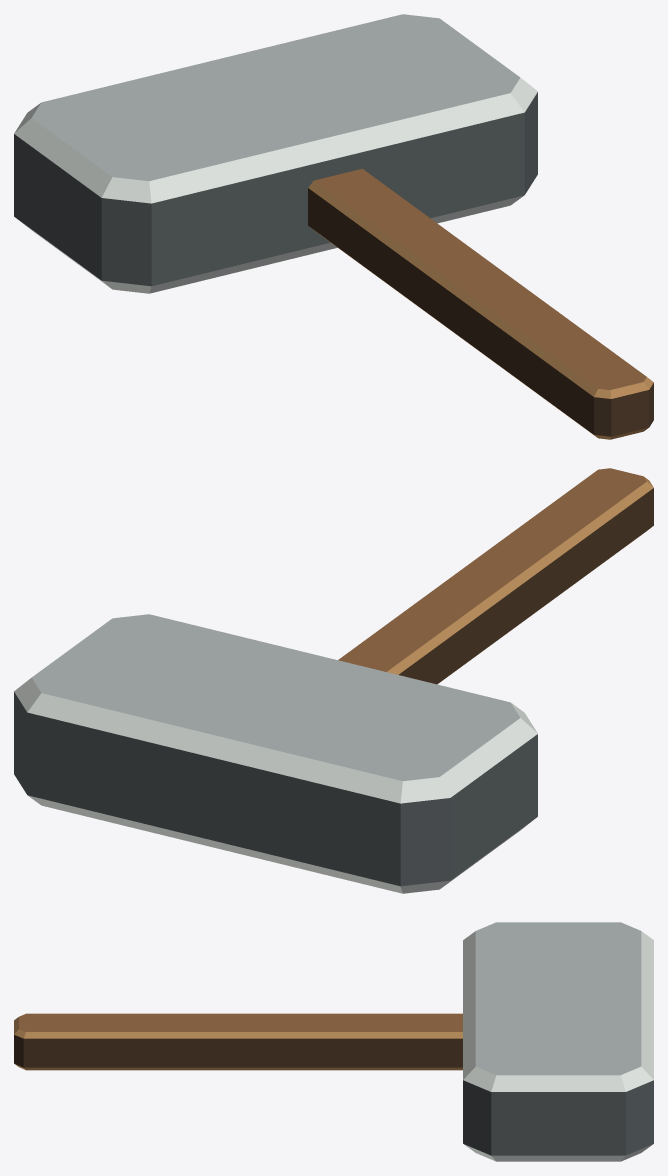
The model's file is stone_hammer.fbx.
3 renders of one model, top to bottom at view 1: azimuth 30°, elevation 25°; view 2: azimuth 150°, elevation 25°; view 3: azimuth 270°, elevation 25°, orthographic. The views are drawn at different scales.
Visible parts, largest first — view 1: stone_hammer; view 2: stone_hammer; view 3: stone_hammer.
Part boxes in pixels (bbox=[...]): stone_hammer: bbox=[14, 14, 653, 439]; stone_hammer: bbox=[14, 468, 653, 893]; stone_hammer: bbox=[14, 922, 653, 1161].
Bounding box in the file's own units: 1.38 × 0.34 × 2.28.
Materials: 1 (1 with a texture image).
